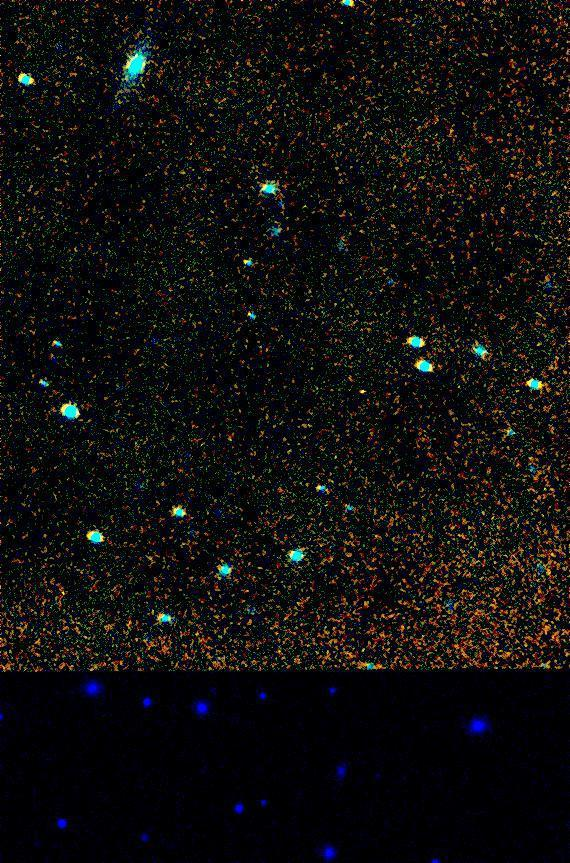star: (346, 378, 376, 408)
